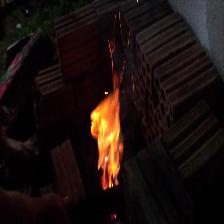fire: (73, 77, 146, 201)
